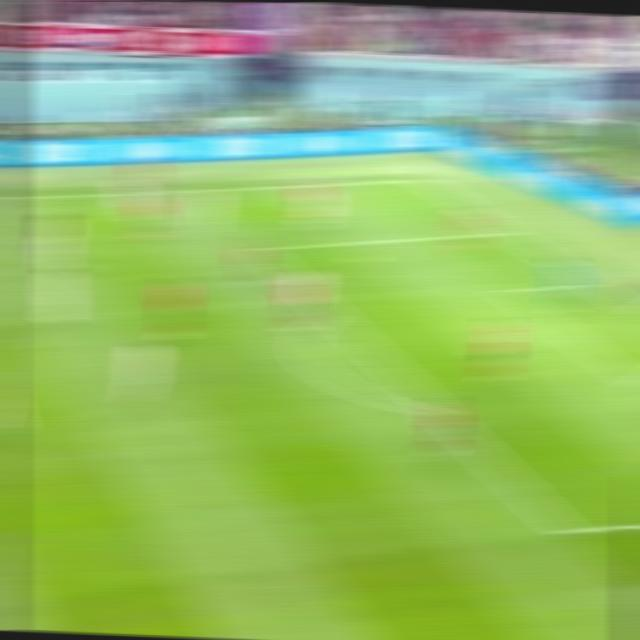bigarea_bottom_inner: (550, 516, 584, 544)
bigarea_top_inner: (246, 242, 270, 255)
bigarea_top_outter: (493, 224, 519, 236)
bottom_arc_area_intersection: (423, 404, 452, 420)
corner: (406, 177, 432, 183)
smallarea_top_inner: (493, 284, 519, 298)
smallarea_top_outter: (576, 276, 602, 290)
top_arc_area_intersection: (318, 307, 344, 321)
